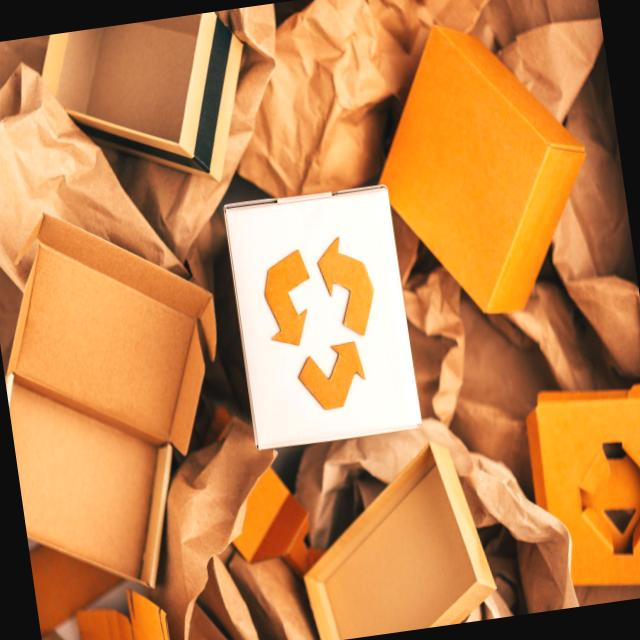Garbage: (0, 188, 254, 608), (34, 8, 260, 204), (287, 435, 503, 640)
Pathole: (360, 6, 605, 327)
